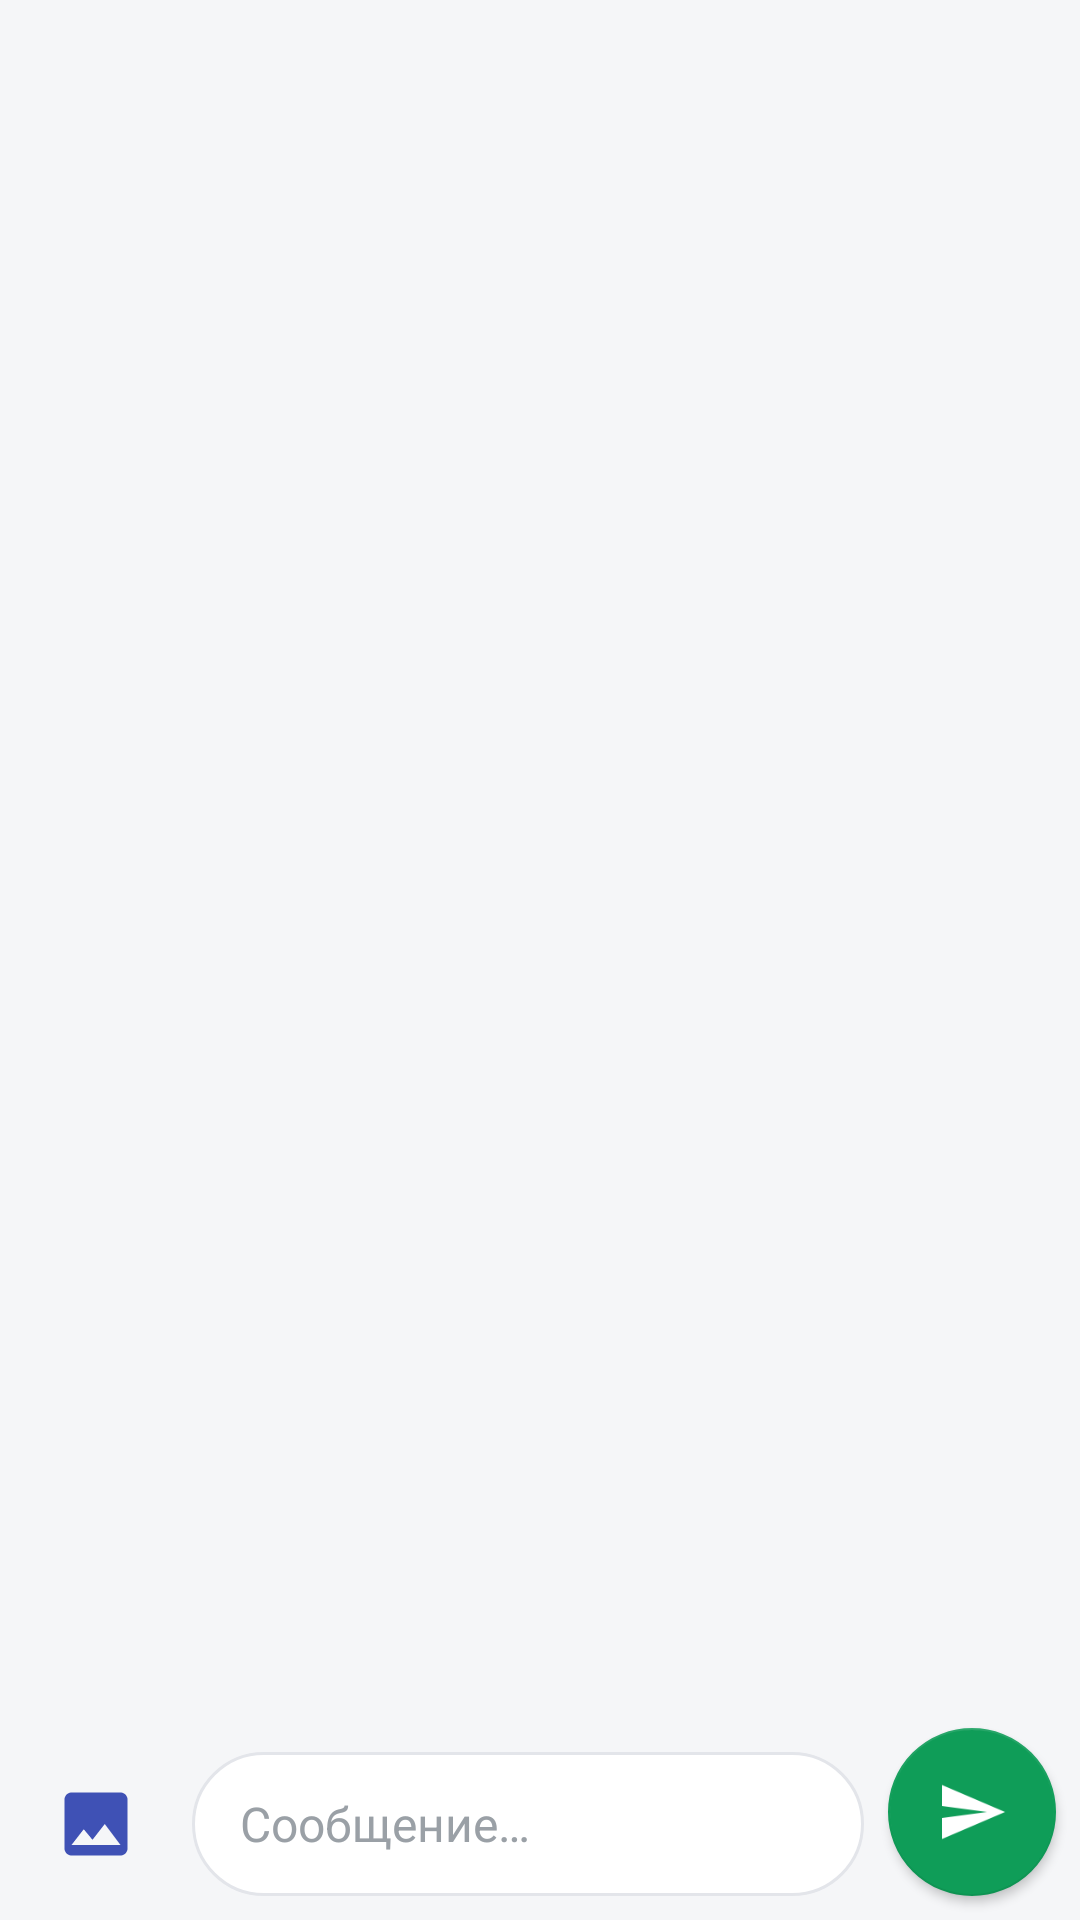

Icon click points for this 1080 x 1920 phone screenshot, format point (x, y):
Отправить: point (972, 1812)
Прикрепить изображение: point (96, 1824)
